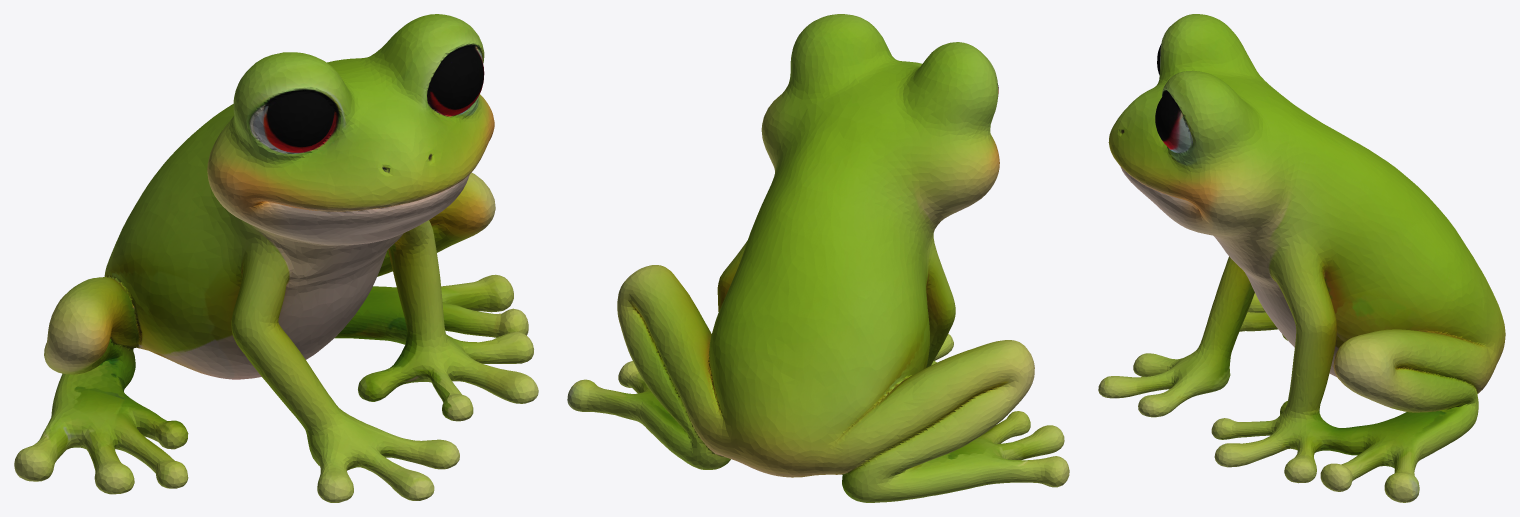
Rendered from w_frog.glb.
The picture shows the model from 3 angles, left to right: view 1: azimuth 30°, elevation 25°; view 2: azimuth 150°, elevation 25°; view 3: azimuth 270°, elevation 25°; orthographic projection. The views are drawn at different scales.
Visible parts, largest first — view 1: textured_mesh.obj; view 2: textured_mesh.obj; view 3: textured_mesh.obj.
Part boxes in pixels (bbox=[...]): textured_mesh.obj: bbox=[14, 14, 538, 502]; textured_mesh.obj: bbox=[567, 14, 1069, 502]; textured_mesh.obj: bbox=[1098, 14, 1505, 502].
Size of the model in its own units: 1.99 by 1.5 by 1.56.
Materials: 1 (1 with a texture image).
